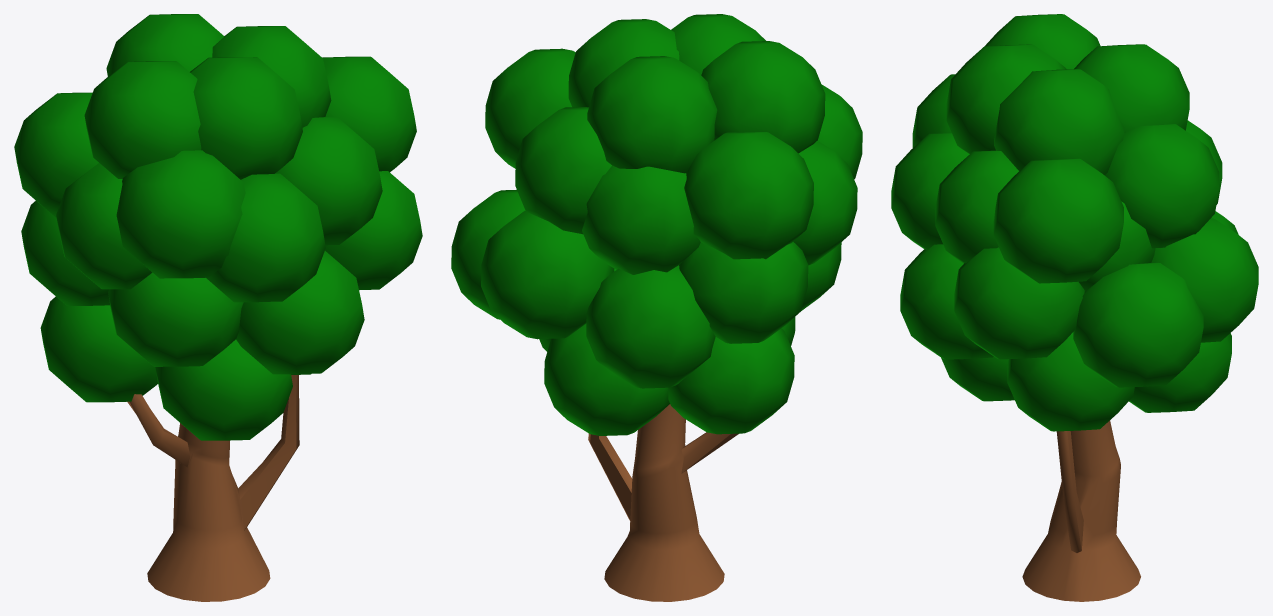
Rendered from Tree.fbx.
The picture shows the model from 3 angles, left to right: view 1: azimuth 30°, elevation 25°; view 2: azimuth 150°, elevation 25°; view 3: azimuth 270°, elevation 25°; orthographic projection. The views are drawn at different scales.
Visible parts, largest first — view 1: pSolid25; view 2: pSolid25; view 3: pSolid25.
Part boxes in pixels (<box>): pSolid25: <box>14,14,422,601</box>; pSolid25: <box>451,14,862,601</box>; pSolid25: <box>891,14,1258,601</box>.
Size of the model in its own units: 15.42 by 22.86 by 14.49.
